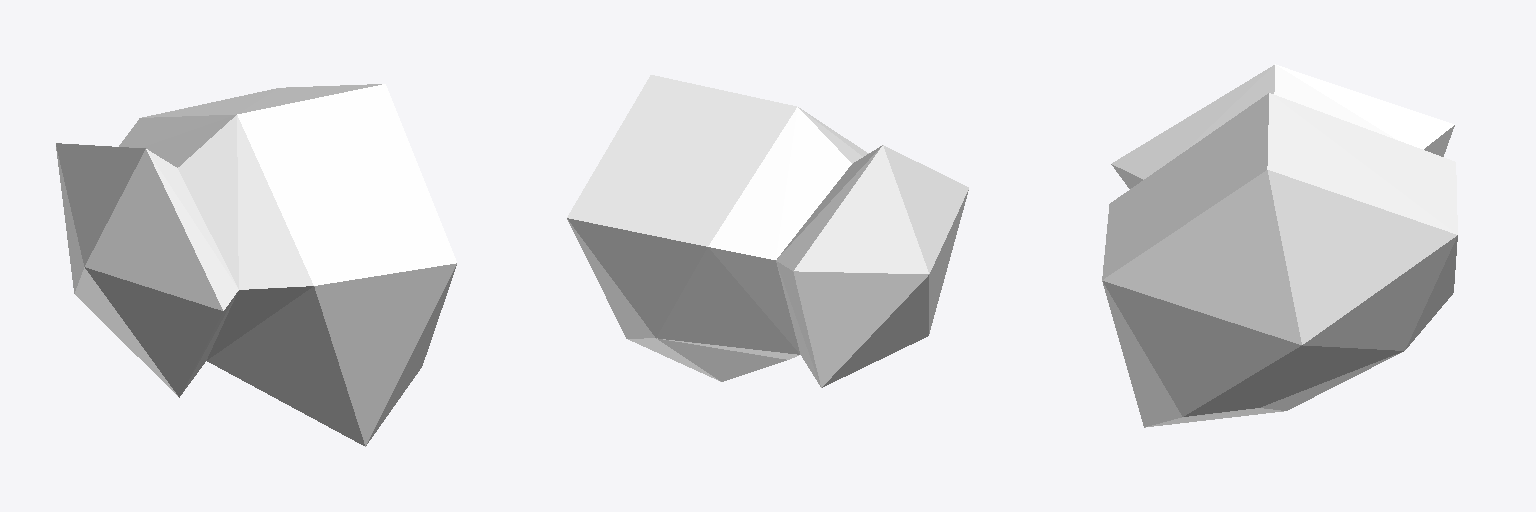
File: Left_Arm_Hand.obj
3 renders of one model, left to right at view 1: azimuth 30°, elevation 25°; view 2: azimuth 150°, elevation 25°; view 3: azimuth 270°, elevation 25°, orthographic.
Visible parts, largest first — view 1: Right_Hand.003_Right_Hand.000; view 2: Right_Hand.003_Right_Hand.000; view 3: Right_Hand.003_Right_Hand.000.
Part boxes in pixels (bbox=[...]): Right_Hand.003_Right_Hand.000: bbox=[56, 84, 456, 446]; Right_Hand.003_Right_Hand.000: bbox=[567, 75, 968, 387]; Right_Hand.003_Right_Hand.000: bbox=[1102, 64, 1457, 427].
Bounding box in the file's own units: 0.6231 × 0.5412 × 0.5767.